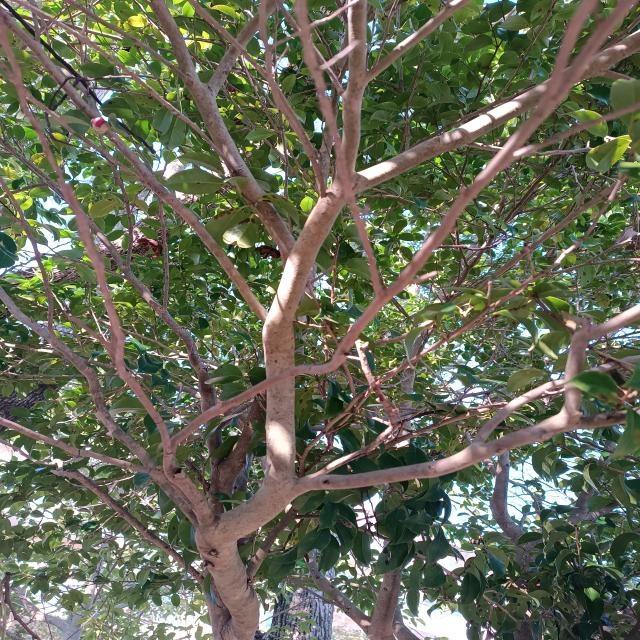Branch: (197, 32, 639, 640), (297, 303, 640, 495), (191, 78, 295, 257), (334, 2, 370, 177), (163, 446, 217, 528)
Twig: (173, 0, 635, 450), (0, 6, 268, 324), (0, 19, 170, 446), (5, 140, 223, 469), (0, 437, 215, 597), (53, 336, 198, 524), (189, 0, 325, 190), (474, 356, 640, 439), (0, 415, 162, 475), (0, 177, 56, 338), (366, 1, 470, 84), (208, 0, 282, 97), (104, 23, 192, 79), (0, 286, 50, 343), (573, 407, 640, 430)
